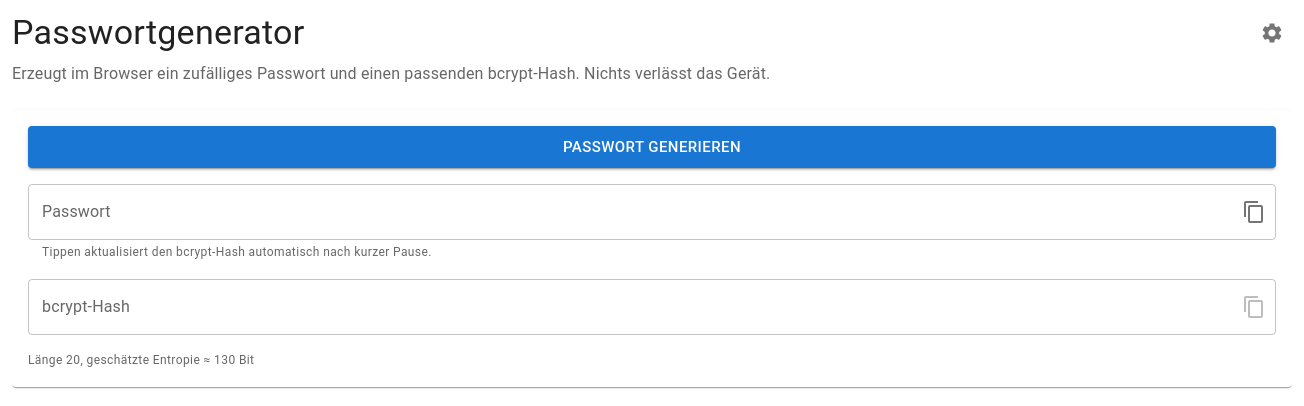
Test: PasswordPage › renders copy buttons for both password and hash
The image size is (1304, 406).
Click the button "Passwort generieren".
click(652, 147)  # box [28, 126, 1276, 168]
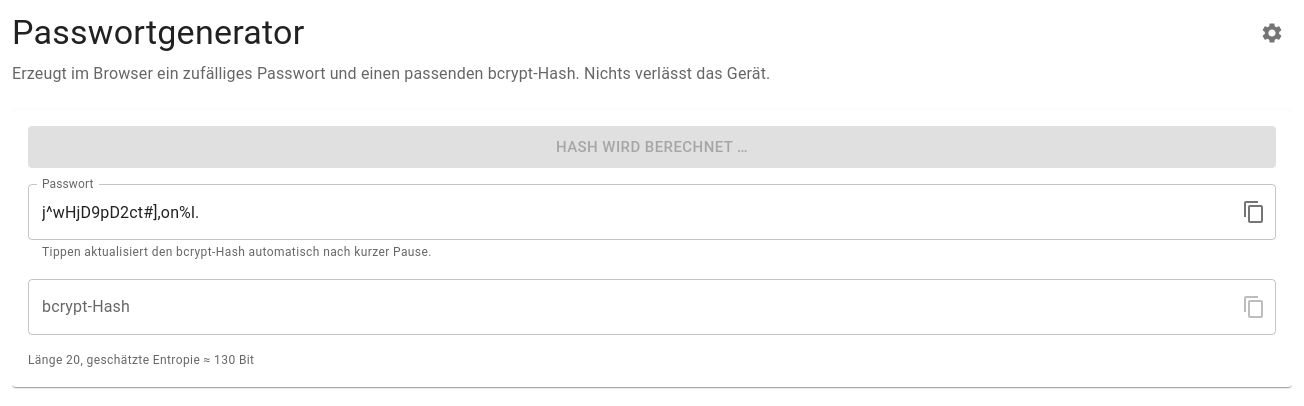
Expected: the button named "Passwort kopieren" is shown, [1234, 192, 1274, 232]
Expected: the field labelled "Passwort" is not empty, [28, 184, 1226, 240]
